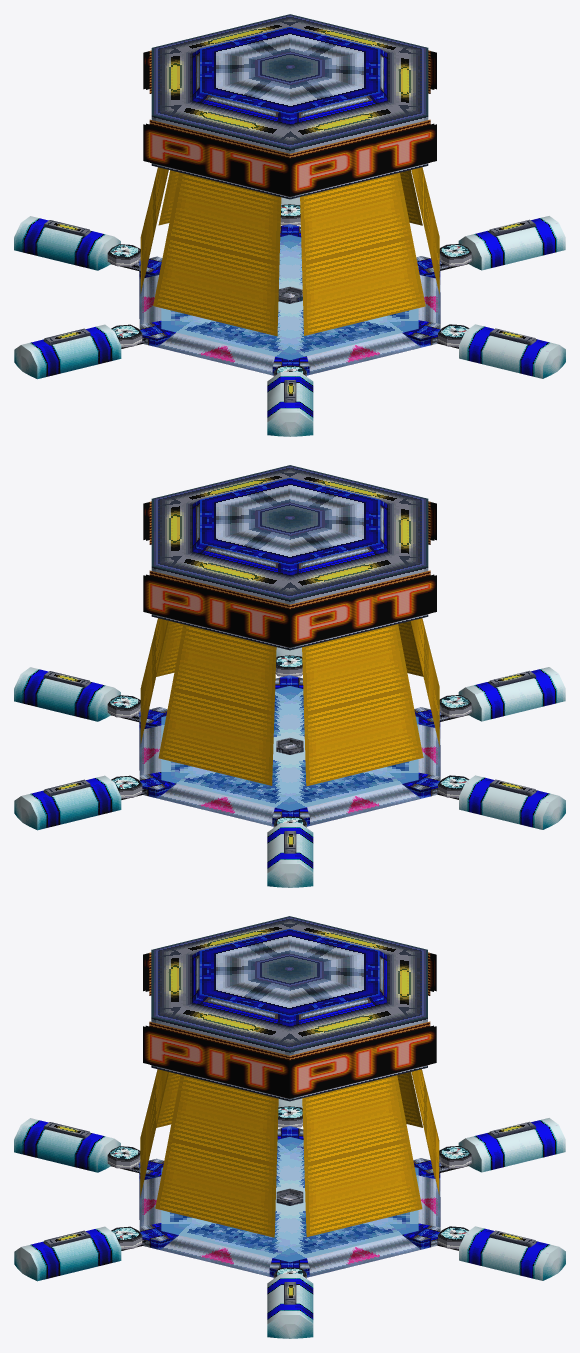
The model's file is Air Pit (Battle Stage).obj.
The picture shows the model from 3 angles, top to bottom: view 1: azimuth 30°, elevation 25°; view 2: azimuth 150°, elevation 25°; view 3: azimuth 270°, elevation 25°; orthographic projection.
Parts seen in each view (by area): view 1: Mesh_0041.001; view 2: Mesh_0041.001; view 3: Mesh_0041.001.
Boxes of the visible parts, <box> form: Mesh_0041.001: <box>14,14,565,436</box>; Mesh_0041.001: <box>14,465,565,887</box>; Mesh_0041.001: <box>14,916,565,1338</box>.
Size of the model in its own units: 6.86 by 2.93 by 6.12.
6 materials, 6 textured.
